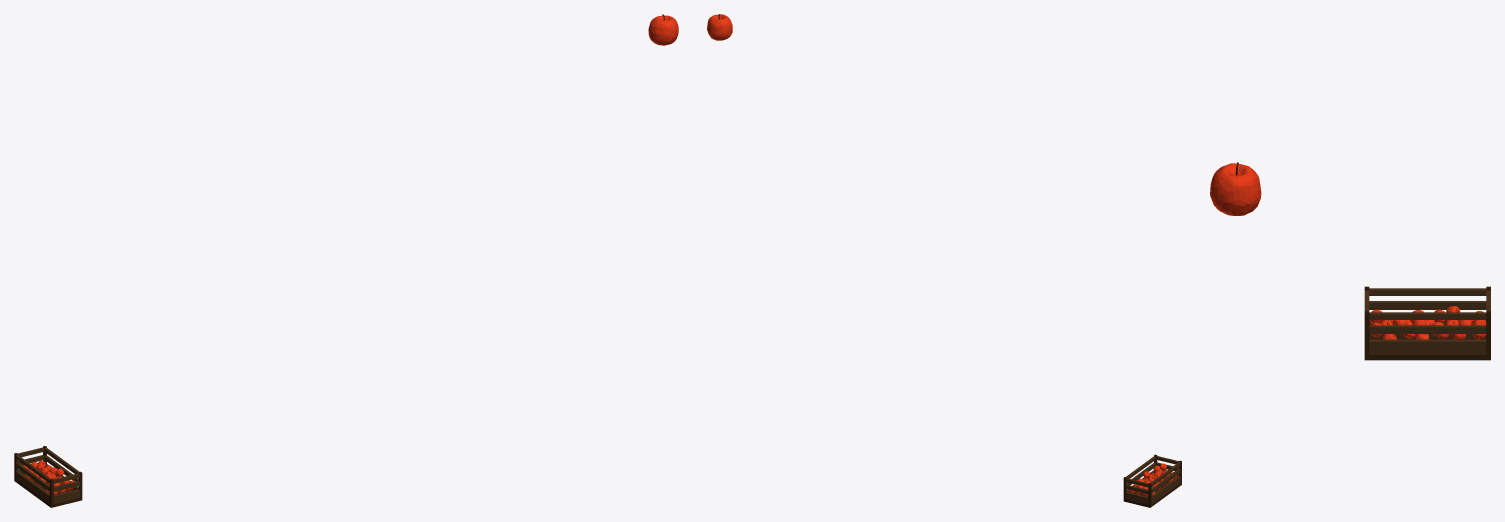
The model's file is apfel mit apfelkorb.fbx.
The picture shows the model from 3 angles, left to right: view 1: azimuth 30°, elevation 25°; view 2: azimuth 150°, elevation 25°; view 3: azimuth 270°, elevation 25°; orthographic projection. The views are drawn at different scales.
Visible parts, largest first — view 1: Apfelkorb, Apfel; view 2: Apfelkorb, Apfel; view 3: Apfelkorb, Apfel.
Part boxes in pixels (x1,y1,x2,y2): Apfelkorb: [14, 446, 82, 507]; Apfel: [648, 14, 678, 45]; Apfelkorb: [1123, 454, 1181, 507]; Apfel: [707, 14, 732, 40]; Apfelkorb: [1364, 286, 1490, 360]; Apfel: [1210, 162, 1261, 215].
Size of the model in its own units: 1034 by 640 by 249.
